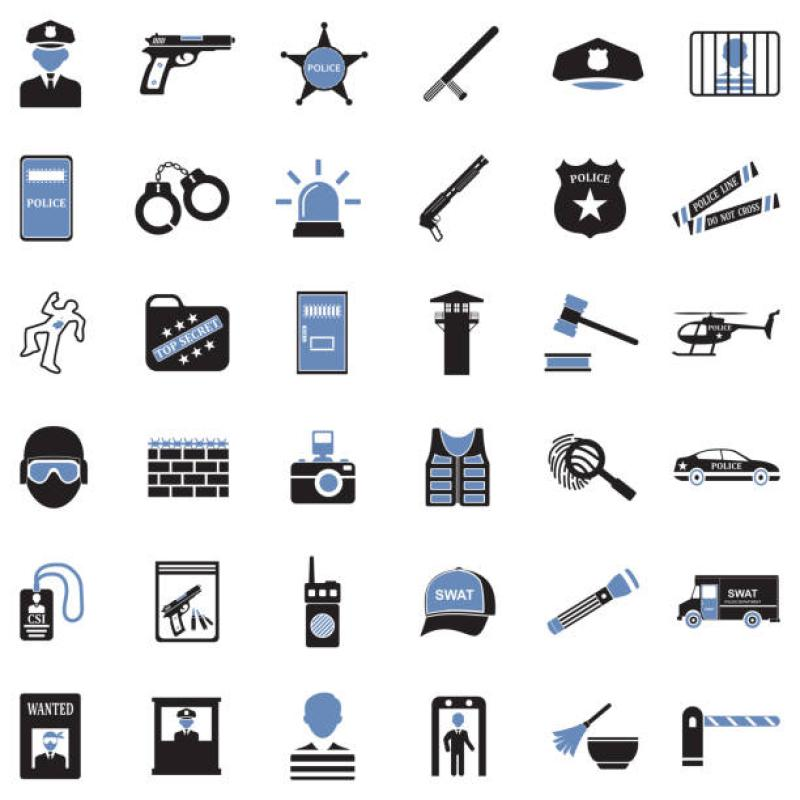AmbulanceSiren: (273, 134, 380, 256)
